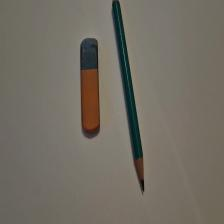eraser: (82, 39, 102, 135)
pencil: (113, 1, 146, 192)
